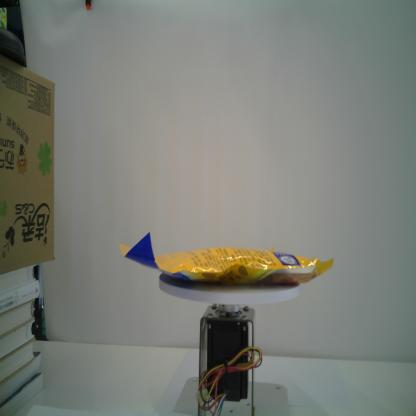Dried Fruit: (118, 231, 334, 287)
